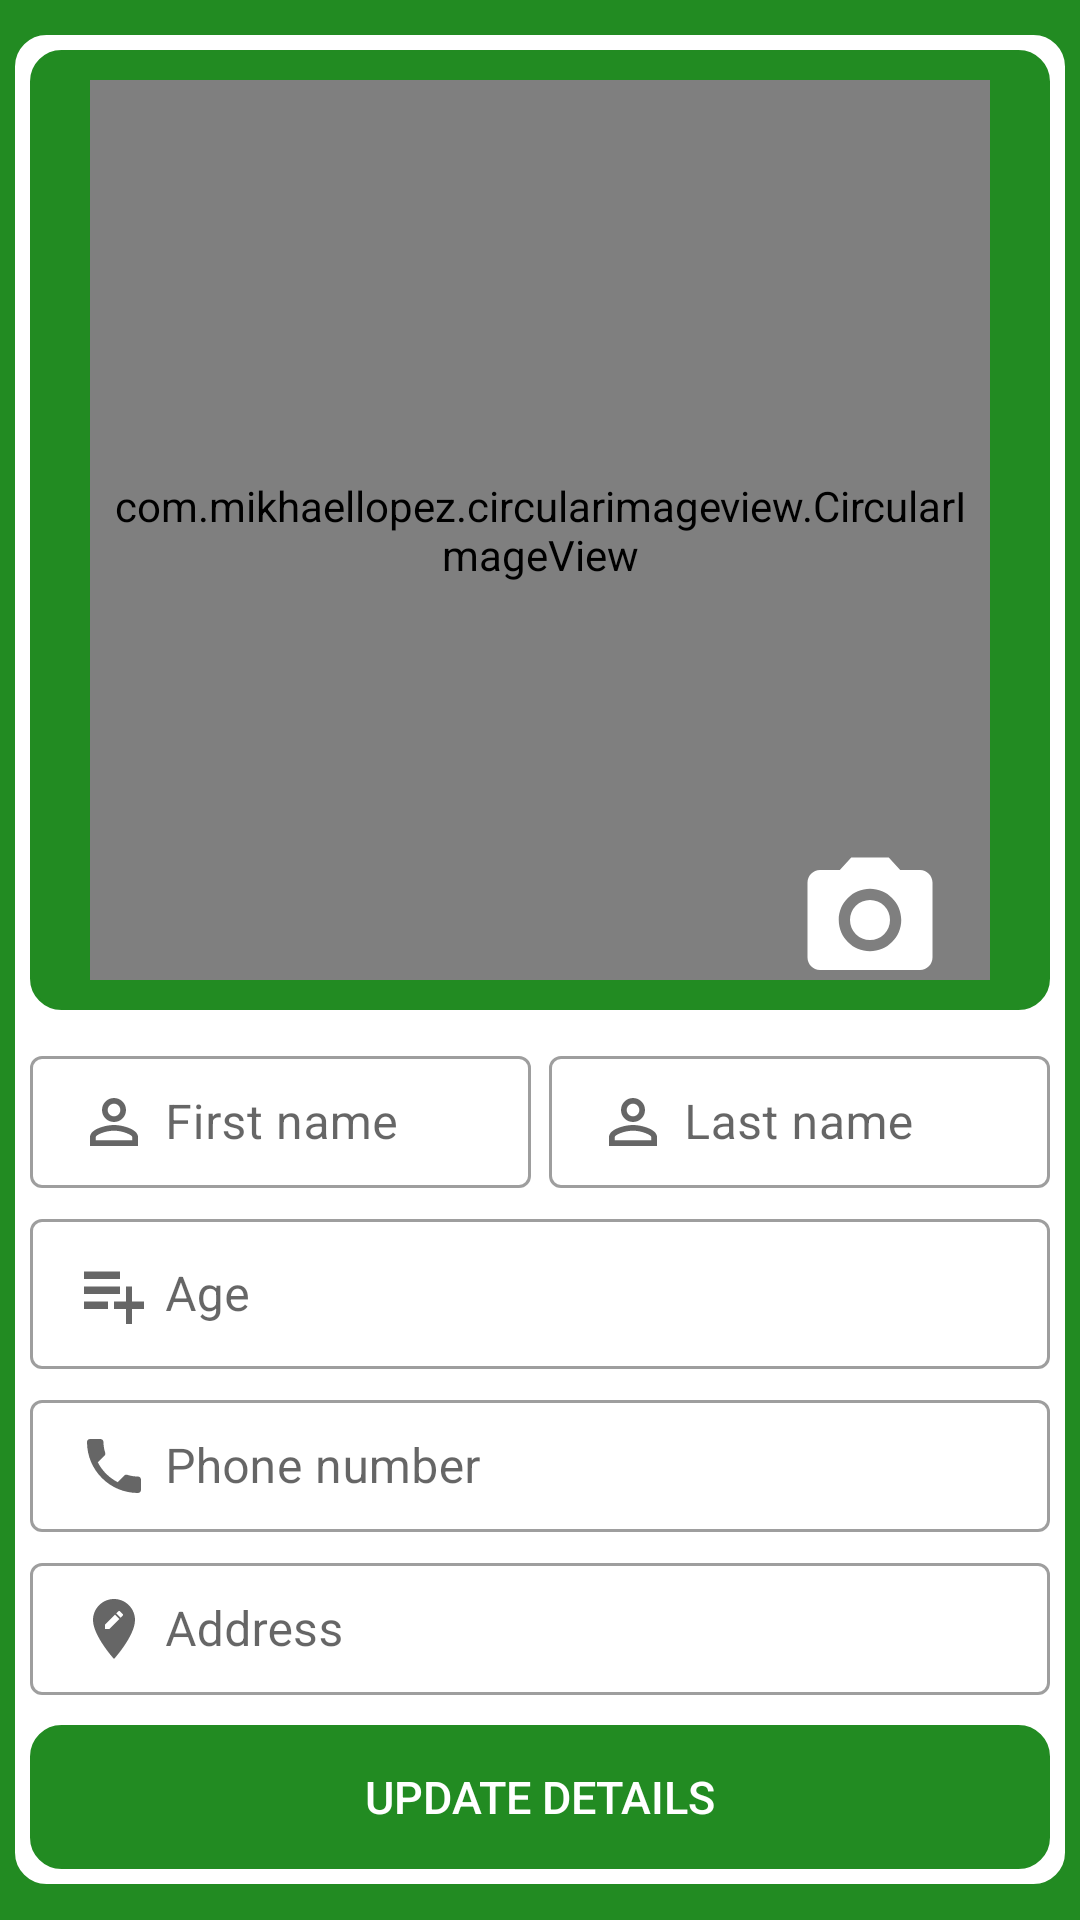

Where to tap for icons on this 1080×1920 app screen, as (x,y):
camera: (870,913)
